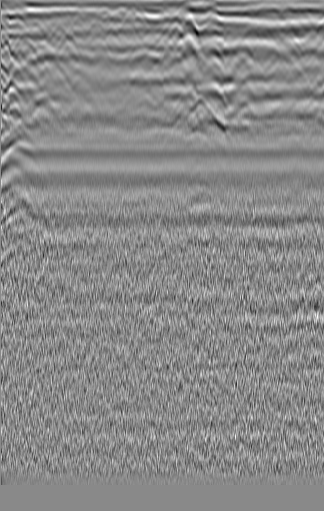상수: (266, 29, 306, 65)
오수: (2, 78, 22, 99)
우수: (128, 47, 160, 70)
